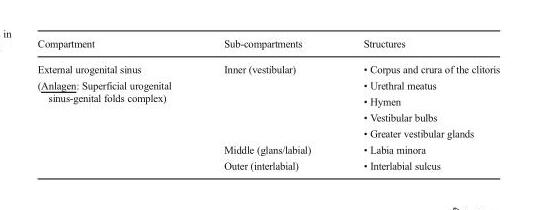table: (36, 37, 499, 170)
table column: (336, 37, 499, 170), (36, 37, 196, 170), (196, 37, 336, 170)
table column header: (36, 37, 499, 55)
table row: (36, 55, 499, 76), (36, 37, 499, 55), (36, 124, 499, 141), (36, 76, 499, 92), (36, 92, 499, 108), (36, 108, 499, 124), (36, 141, 499, 157), (36, 157, 499, 170)
table spanning cell: (36, 76, 196, 170), (196, 55, 336, 141)
